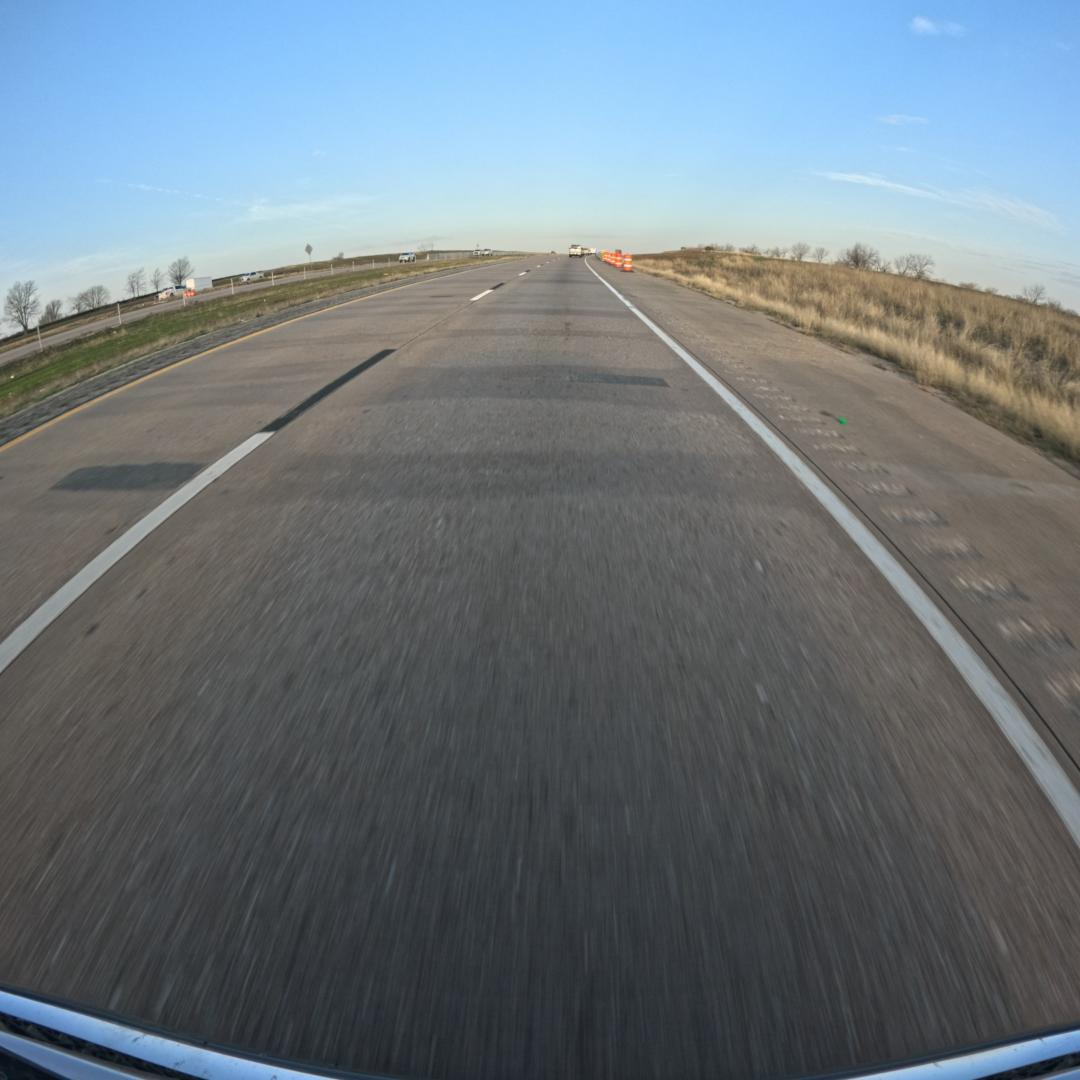lane0: (0, 261, 1080, 1080)
lane1: (0, 255, 554, 673)
